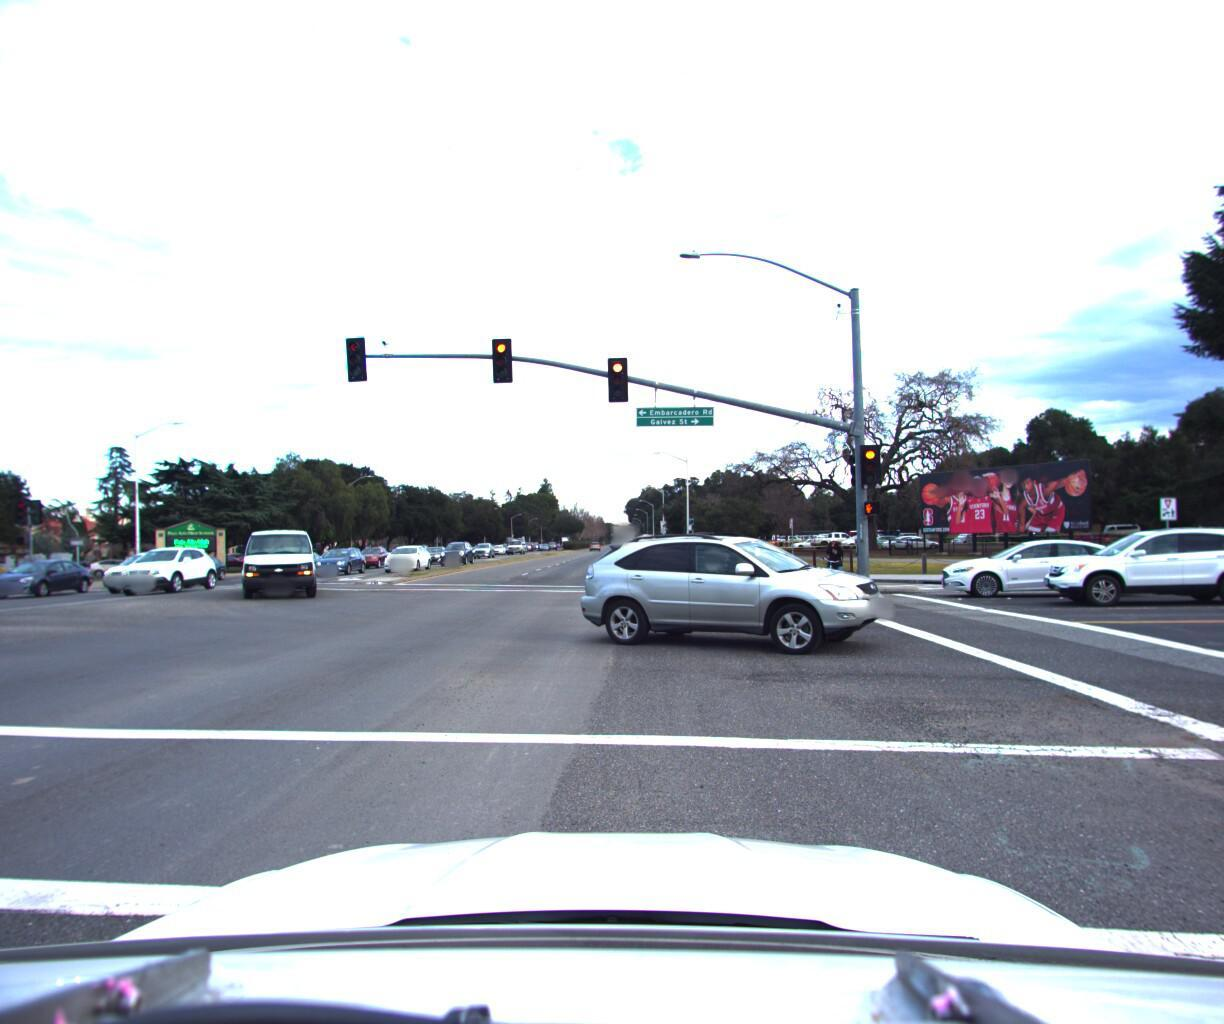bicycle: (812, 531, 846, 589)
car: (563, 517, 906, 663), (1026, 522, 1224, 601), (925, 531, 1146, 594), (105, 541, 220, 595), (240, 523, 319, 599), (95, 546, 203, 594), (311, 544, 369, 575), (378, 540, 434, 570), (193, 553, 252, 580), (349, 542, 391, 566), (437, 537, 473, 563)
